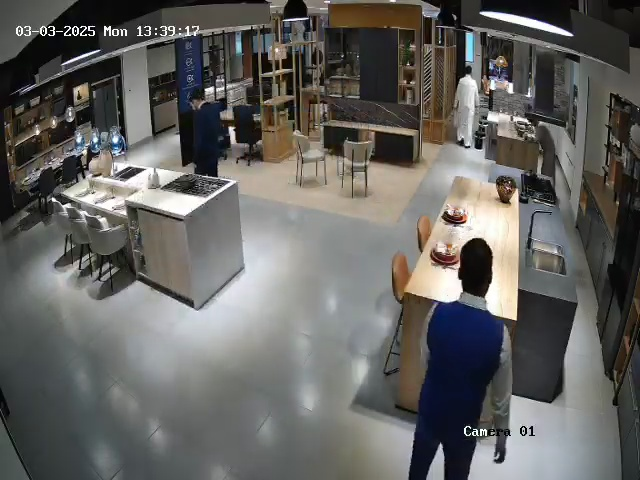employee: (408, 237, 512, 480), (189, 88, 227, 177)
male: (453, 65, 480, 149)
